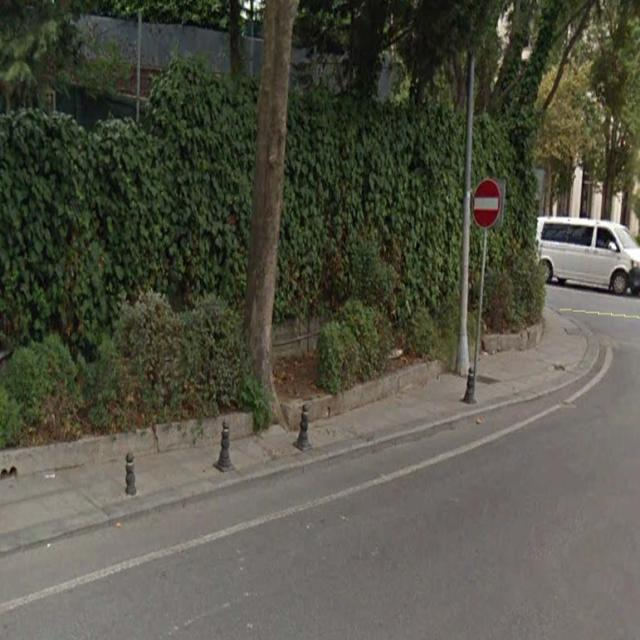girisyok: (472, 178, 499, 229)
